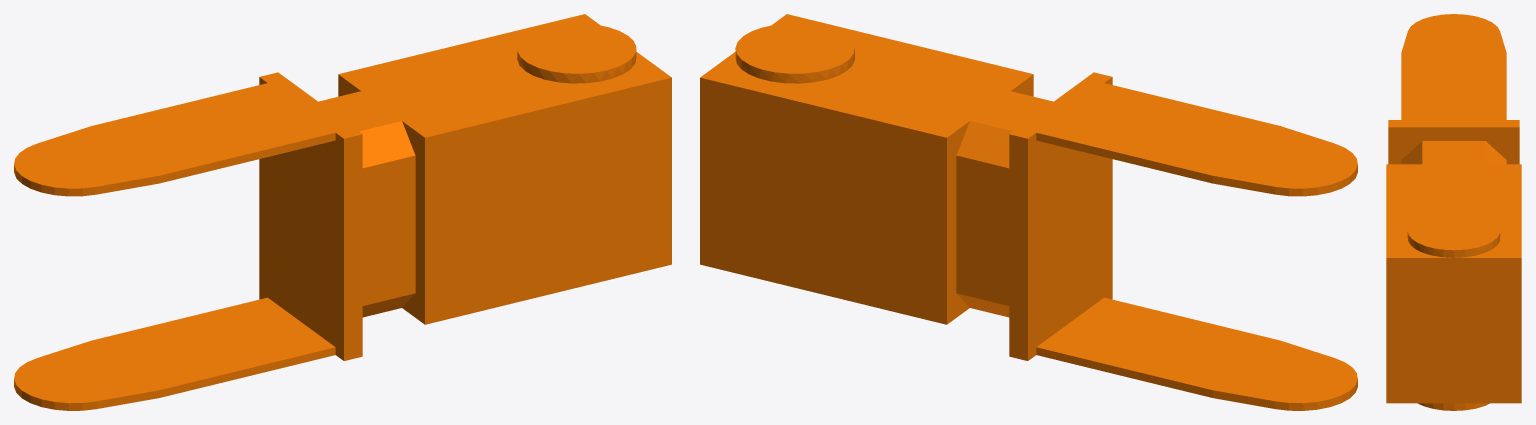
The model's file is simple_bicep.dae.
The picture shows the model from 3 angles, left to right: view 1: azimuth 30°, elevation 25°; view 2: azimuth 150°, elevation 25°; view 3: azimuth 270°, elevation 25°; orthographic projection. The views are drawn at different scales.
Parts seen in each view (by area): view 1: node0, node1; view 2: node0, node1; view 3: node1, node0.
Part boxes in pixels (x1,y1,x2,y2): node0: (14,72,415,410); node1: (338,14,671,324); node0: (956,72,1357,410); node1: (700,14,1033,324); node1: (1386,164,1521,410); node0: (1388,14,1519,164).
Size of the model in its own units: 0.129 by 0.032 by 0.0452.
